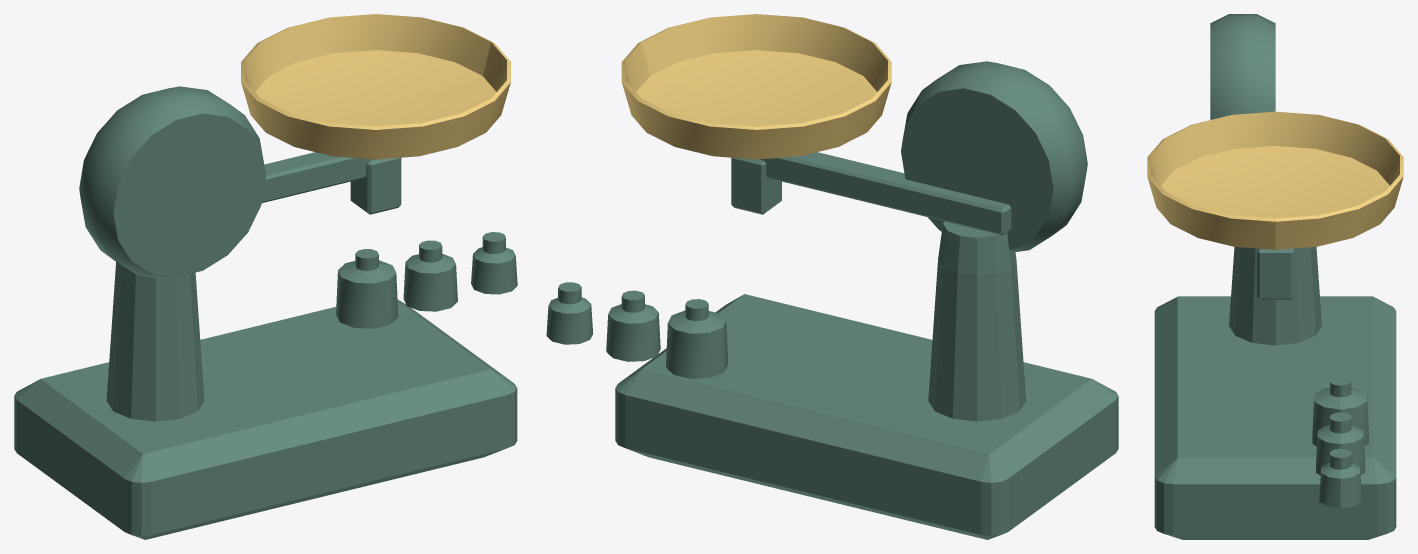
3 views of the same model, side by side, from view 1: azimuth 30°, elevation 25°; view 2: azimuth 150°, elevation 25°; view 3: azimuth 270°, elevation 25° (orthographic). The views are drawn at different scales.
Parts seen in each view (by area): view 1: counter-scales, scale-pan; view 2: counter-scales, scale-pan; view 3: counter-scales, scale-pan.
Part boxes in pixels (x1,y1,x2,y2): counter-scales: [14, 86, 517, 539]; scale-pan: [241, 14, 510, 159]; counter-scales: [546, 61, 1118, 539]; scale-pan: [621, 14, 891, 159]; counter-scales: [1154, 14, 1396, 539]; scale-pan: [1147, 111, 1403, 249].
Size of the model in its own units: 0.564 by 0.4585 by 0.2758.
